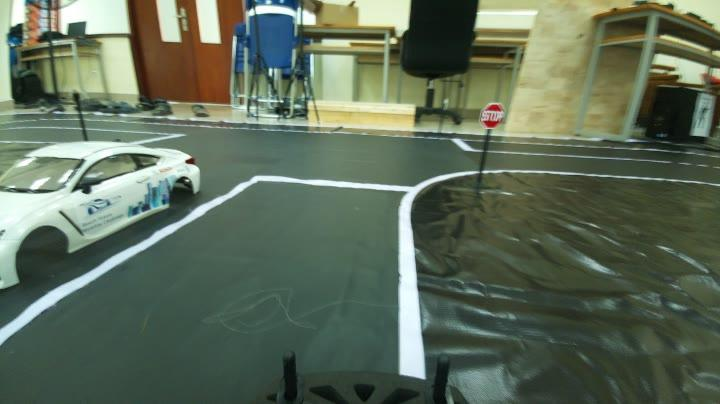car: (0, 99, 199, 284)
stop: (476, 95, 510, 132)
